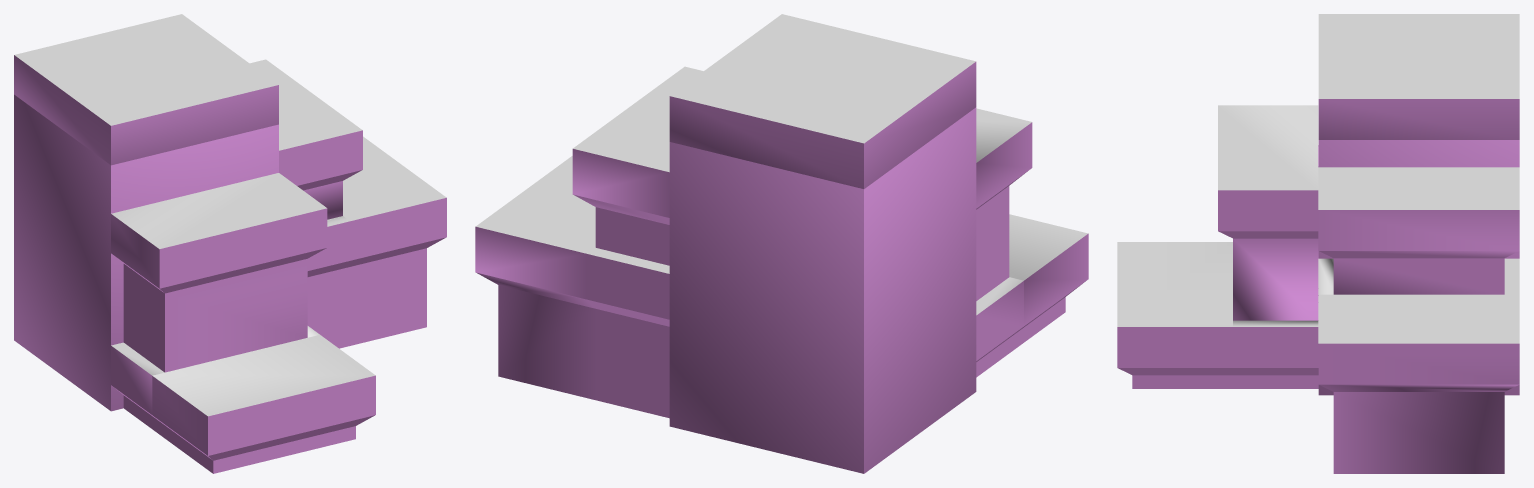
Rendered from ShortClimbCombo.fbx.
The picture shows the model from 3 angles, left to right: view 1: azimuth 30°, elevation 25°; view 2: azimuth 150°, elevation 25°; view 3: azimuth 270°, elevation 25°; orthographic projection. The views are drawn at different scales.
Parts seen in each view (by area): view 1: ShortClimbCombo; view 2: ShortClimbCombo; view 3: ShortClimbCombo.
Part boxes in pixels (x1,y1,x2,y2): ShortClimbCombo: (14,14,446,473); ShortClimbCombo: (475,14,1088,473); ShortClimbCombo: (1117,14,1519,473).
Size of the model in its own units: 4 by 3.25 by 4.
